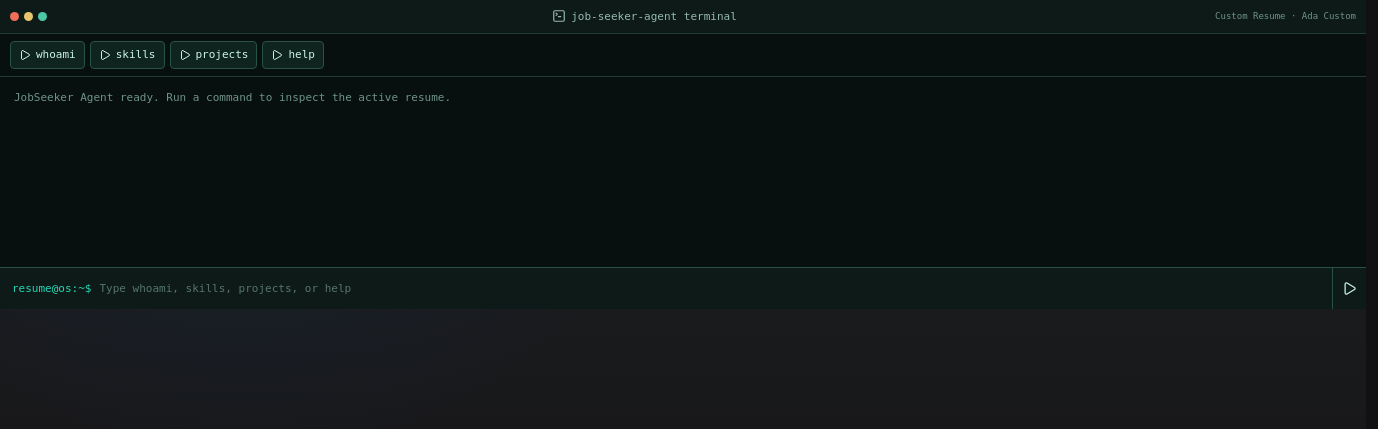
Test: structured presentation applications › updates the live announcement for consecutive identical commands without making history live
Click the button with aria-label "Run whoami": (47,55) [10,41,85,69]
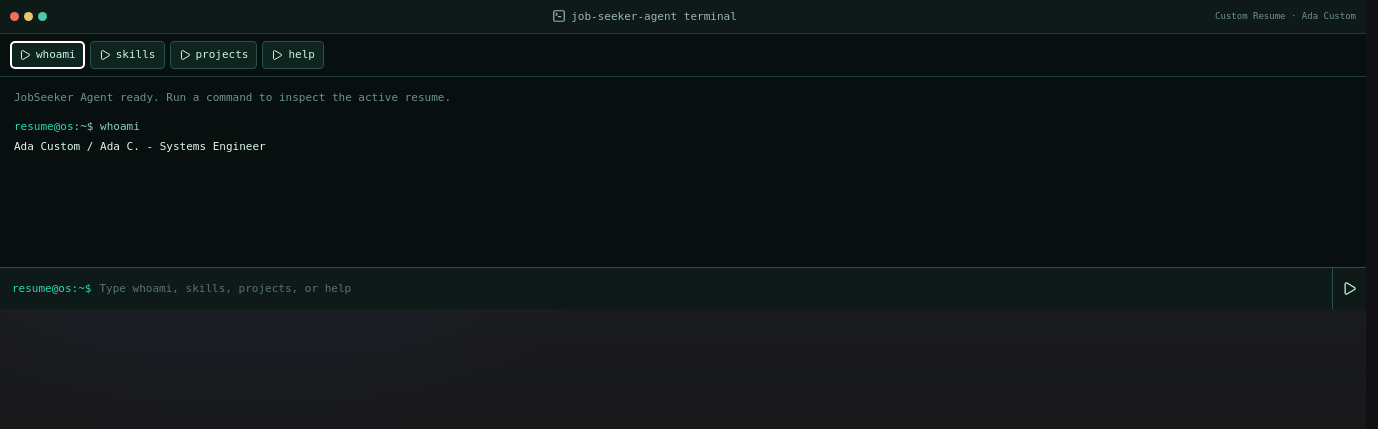
Click the button with aria-label "Run whoami": (47,55) [10,41,85,69]
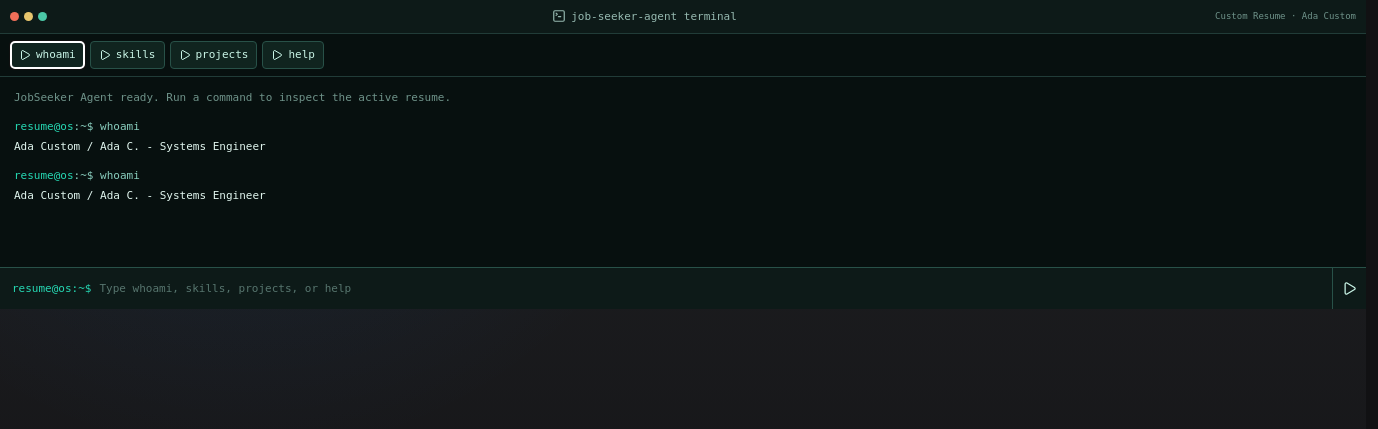
Now the text "Ada Custom / Ada C. - Systems Engineer" is shown 2 times, box [14,140,266,153]; [14,189,266,202]
